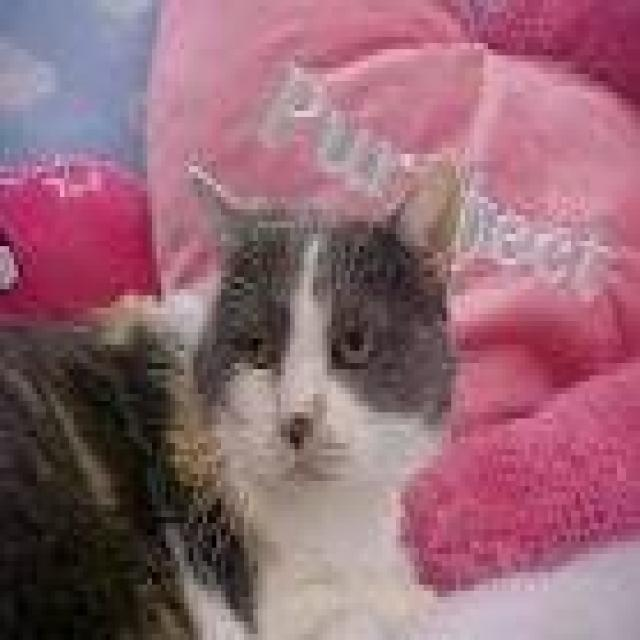cat: (0, 123, 506, 640)
